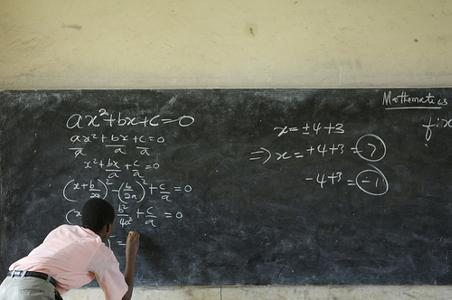person: (3, 200, 138, 300)
